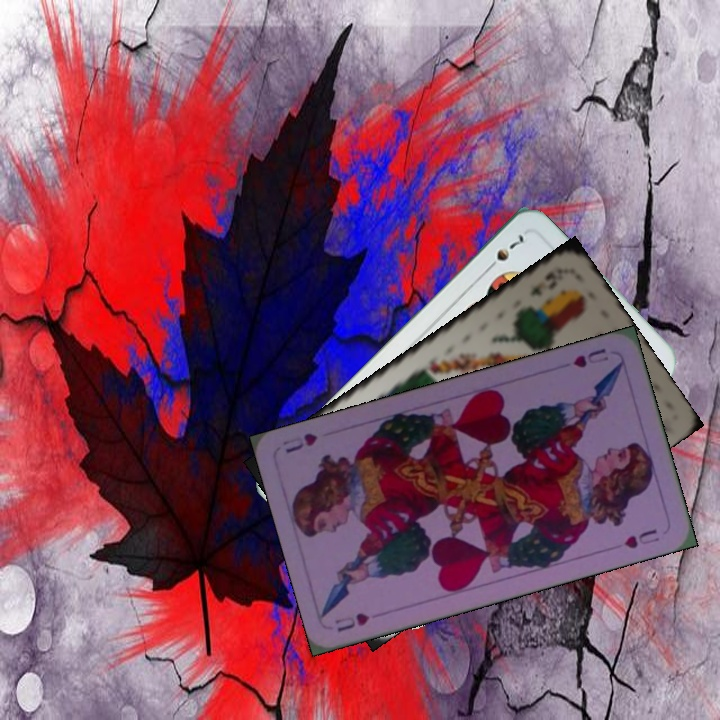EK: (526, 270, 564, 299)
HU: (569, 344, 611, 371), (331, 608, 372, 635)
S7: (481, 228, 529, 275)
